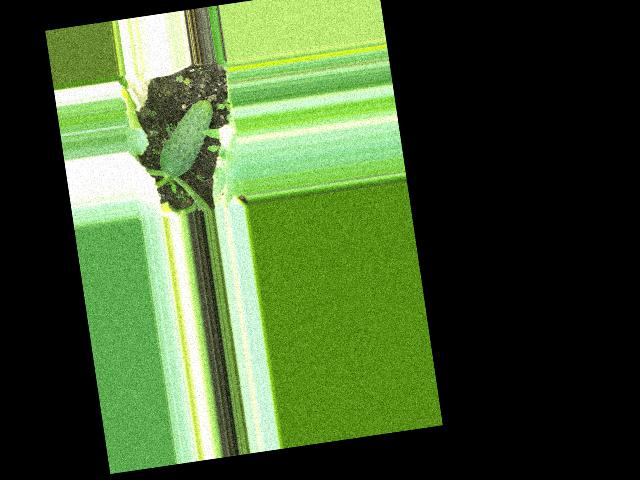cucumber: (151, 98, 222, 179)
